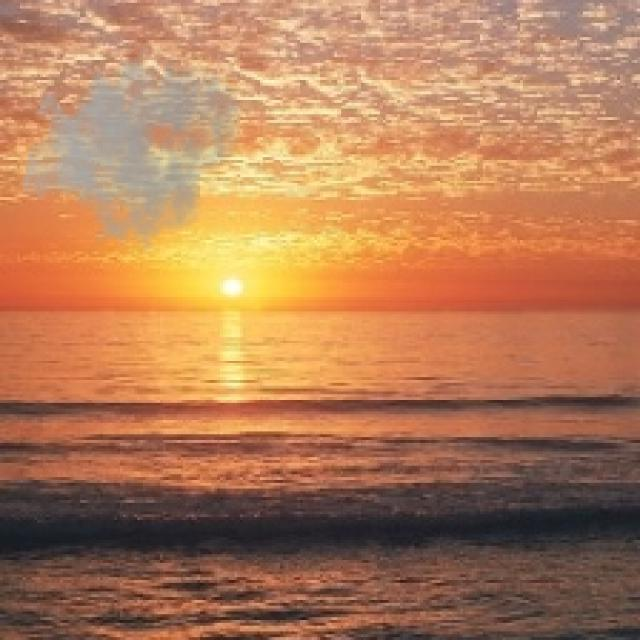Smoke: (20, 34, 243, 254)
